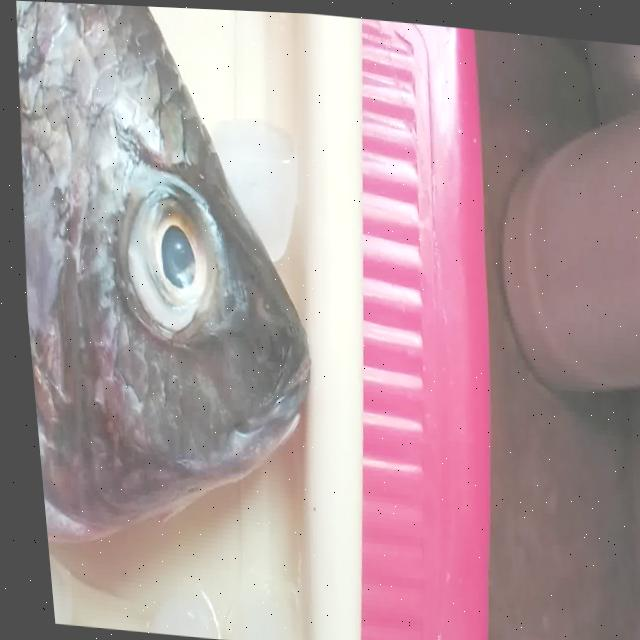Fresh: (91, 126, 244, 365)
